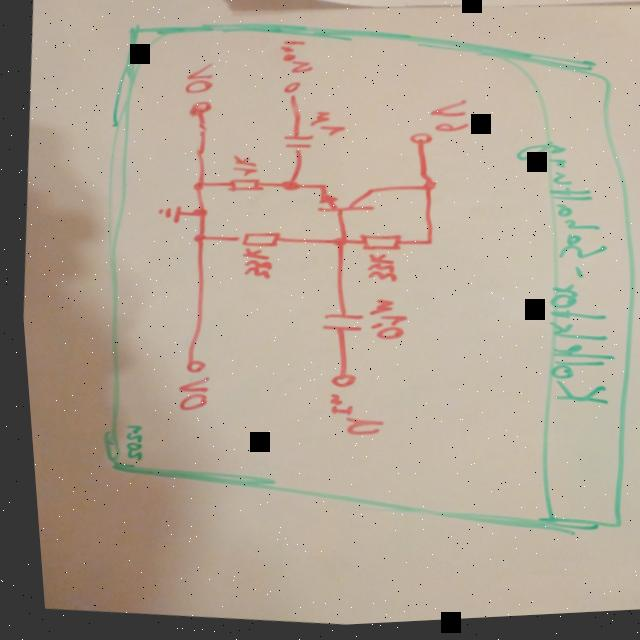capacitor: (311, 306, 362, 345), (276, 132, 314, 160)
ground: (148, 201, 183, 228)
junction: (273, 177, 302, 199), (414, 181, 437, 200), (186, 206, 209, 224), (186, 233, 207, 251), (326, 237, 348, 254), (186, 180, 207, 196), (417, 240, 435, 254)
resistor: (348, 233, 408, 261), (227, 228, 285, 256), (221, 178, 266, 200)
terminal: (402, 131, 434, 157), (275, 80, 305, 106), (322, 372, 353, 396), (185, 99, 216, 123), (176, 359, 203, 378)
text: (484, 141, 637, 422), (312, 392, 384, 449), (356, 298, 410, 351), (421, 99, 474, 146), (269, 37, 318, 83), (165, 375, 210, 419), (230, 247, 274, 288), (354, 255, 397, 291), (303, 110, 348, 144), (178, 62, 217, 100), (110, 421, 142, 465), (224, 153, 261, 183)
transistor: (308, 180, 377, 225)
